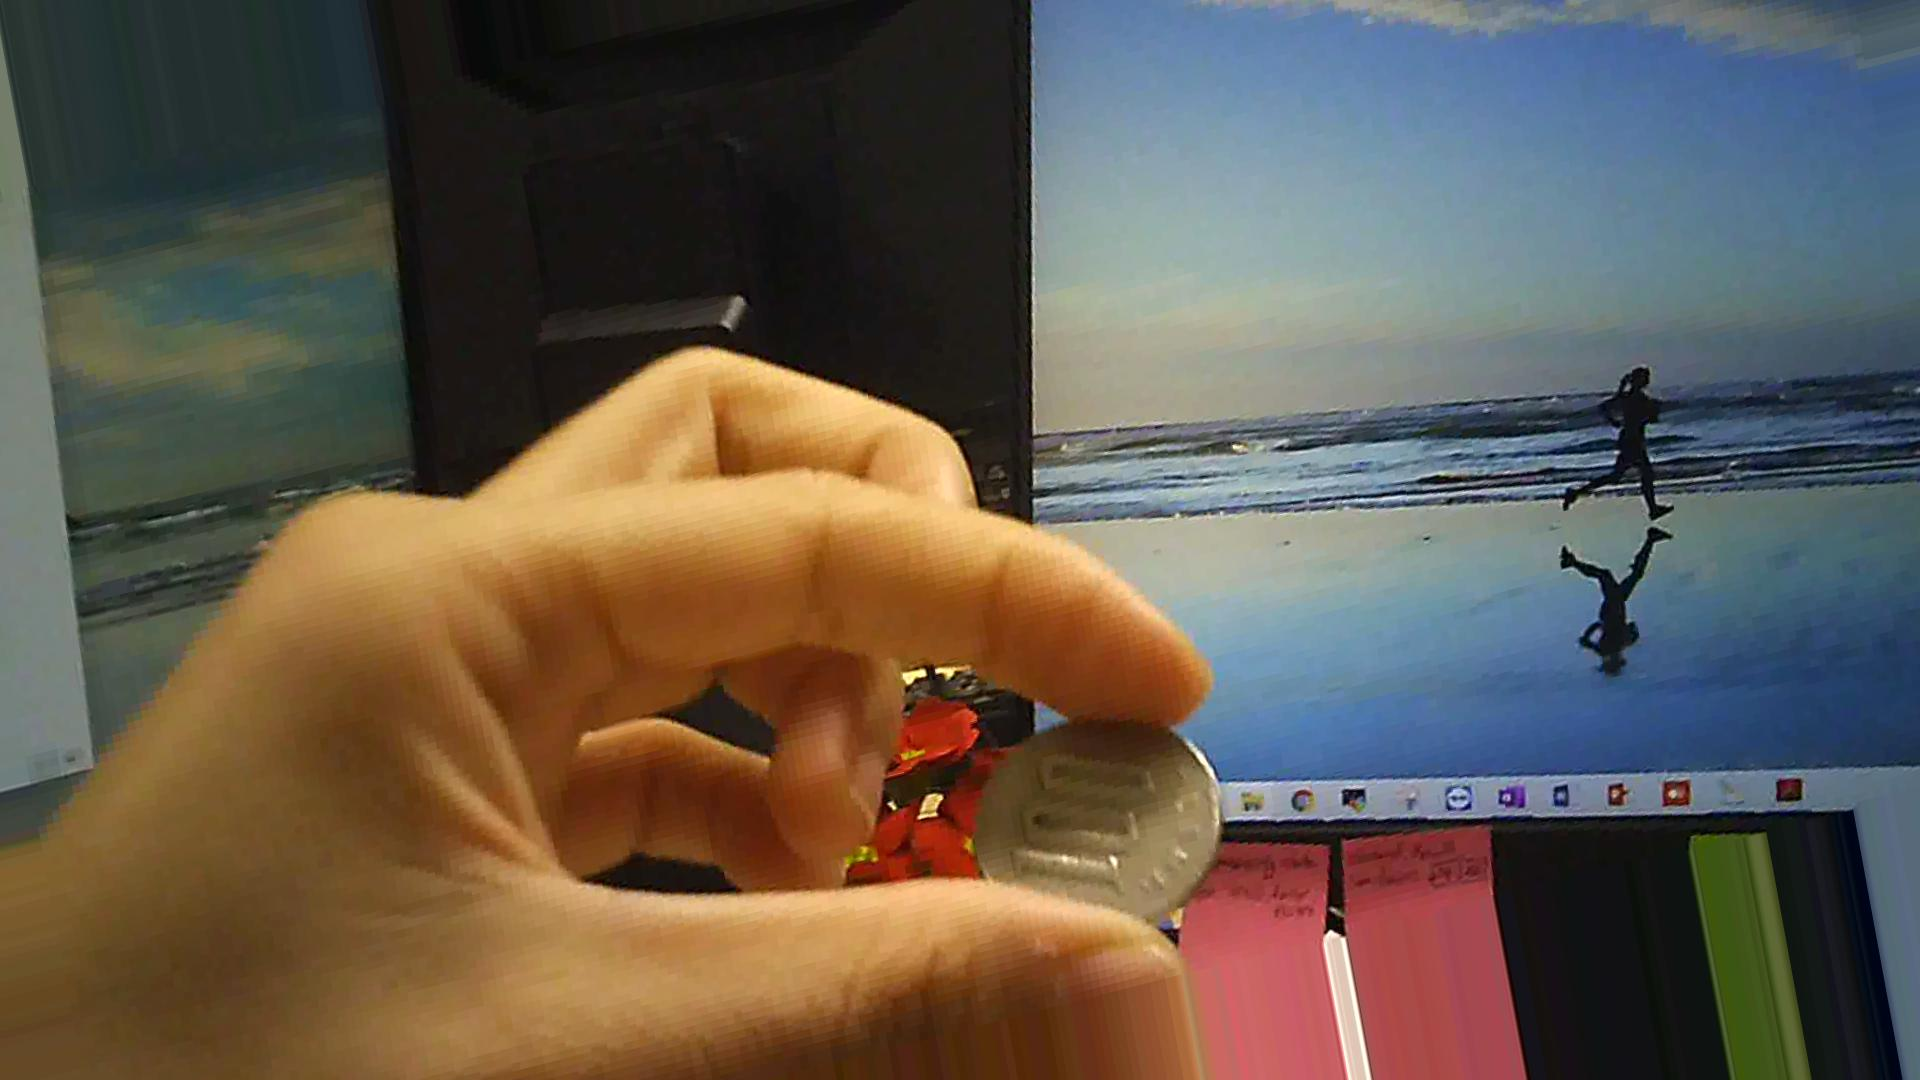100 Yen: (961, 698, 1222, 938)
